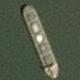ship: (0, 0, 4, 38)
